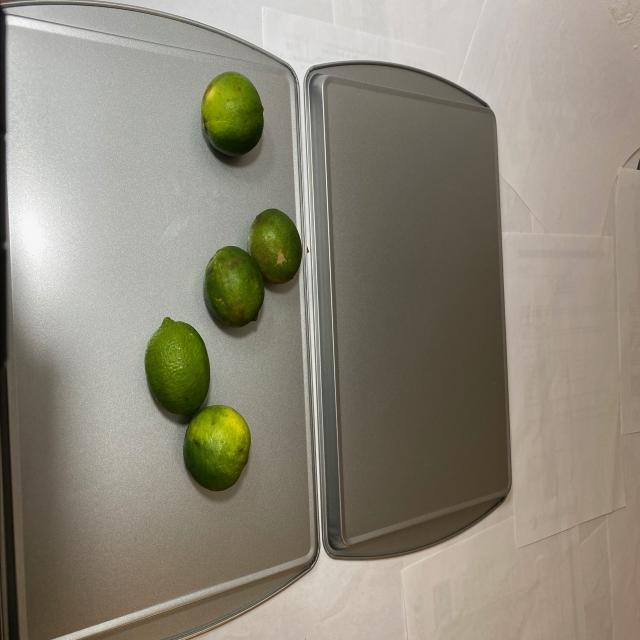lemon: (144, 203, 304, 498), (198, 69, 265, 157)
